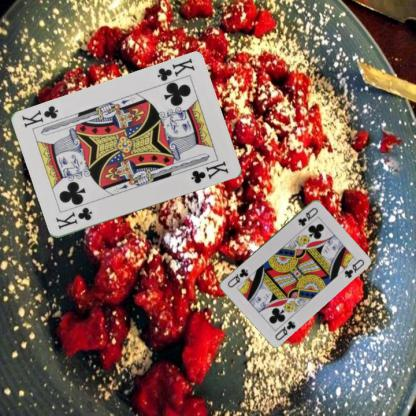Kc: (154, 56, 196, 83), (52, 205, 93, 231)
Qc: (272, 318, 297, 341), (295, 205, 320, 227)
